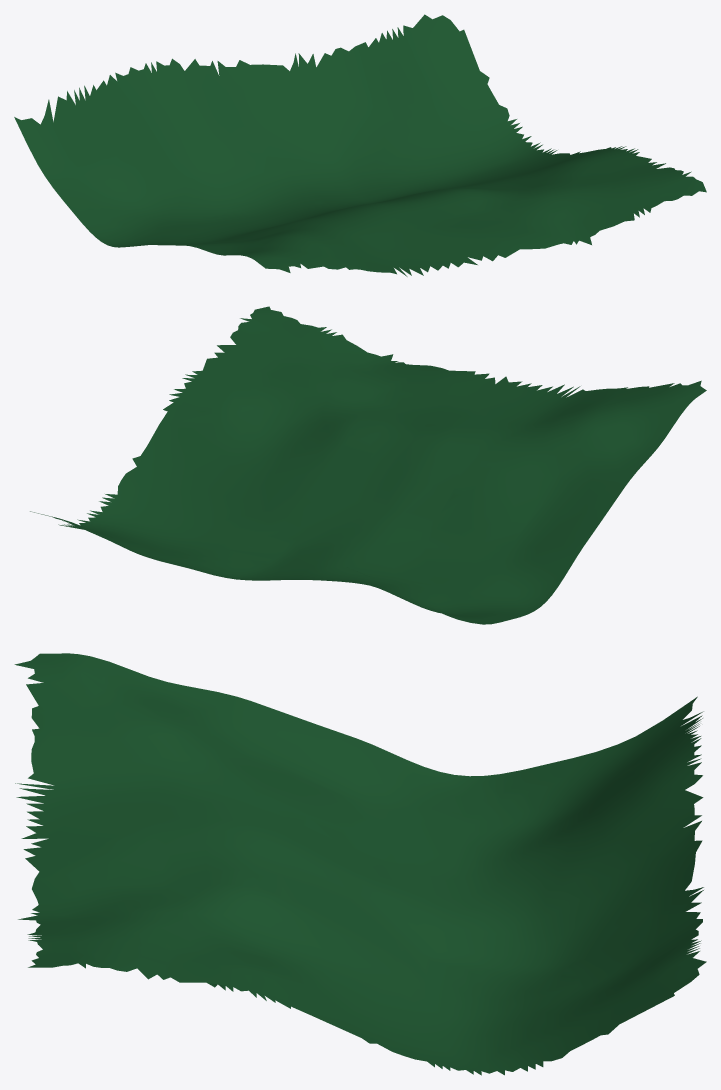
File: payo_land_xm4_y1_lod1.glb
The picture shows the model from 3 angles, top to bottom: view 1: azimuth 30°, elevation 25°; view 2: azimuth 150°, elevation 25°; view 3: azimuth 270°, elevation 25°; orthographic projection. The views are drawn at different scales.
Visible parts, largest first — view 1: payo_land_xm4_y1; view 2: payo_land_xm4_y1; view 3: payo_land_xm4_y1.
Boxes of the visible parts, left/top/right/bottom form: payo_land_xm4_y1: left=14, top=14, right=706, bottom=276; payo_land_xm4_y1: left=30, top=306, right=706, bottom=624; payo_land_xm4_y1: left=14, top=653, right=706, bottom=1075.
Size of the model in its own units: 260 by 63.53 by 268.
